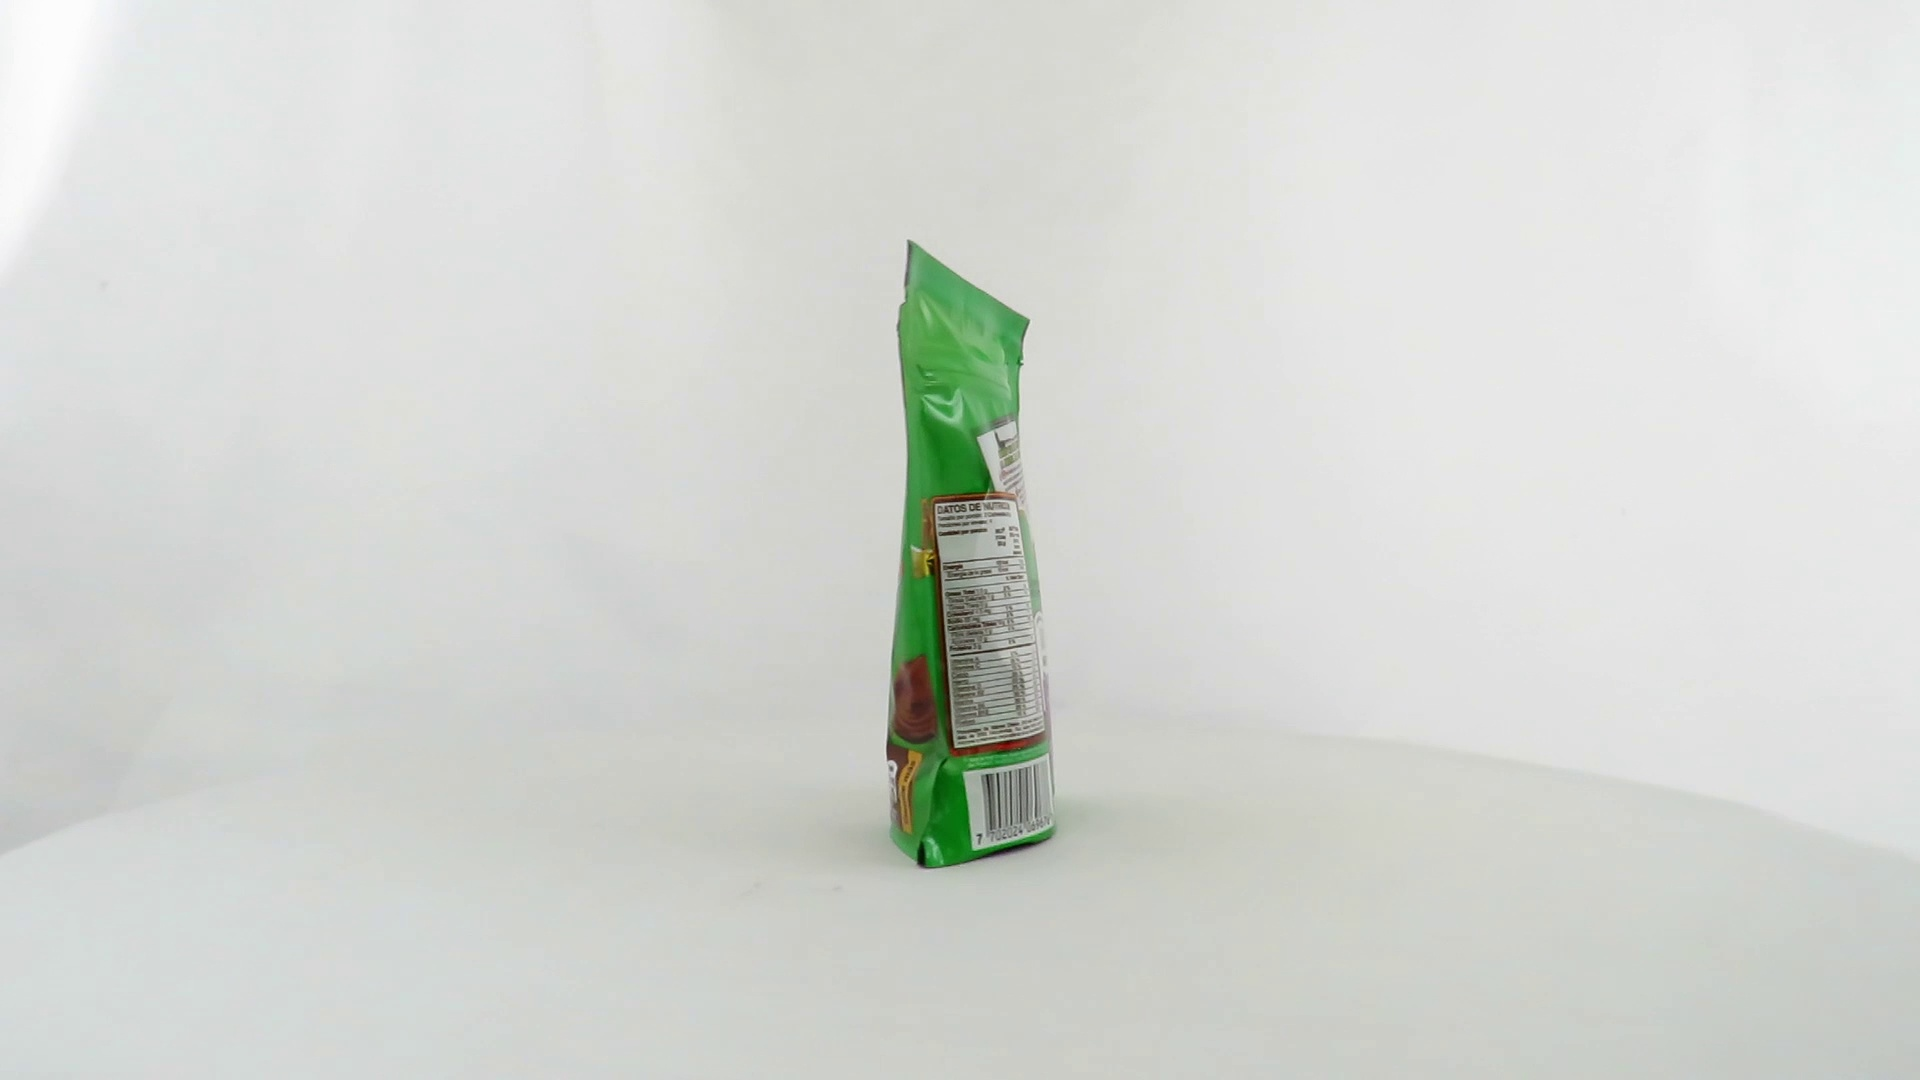COL0170203DYP10000: (881, 233, 1064, 876)
